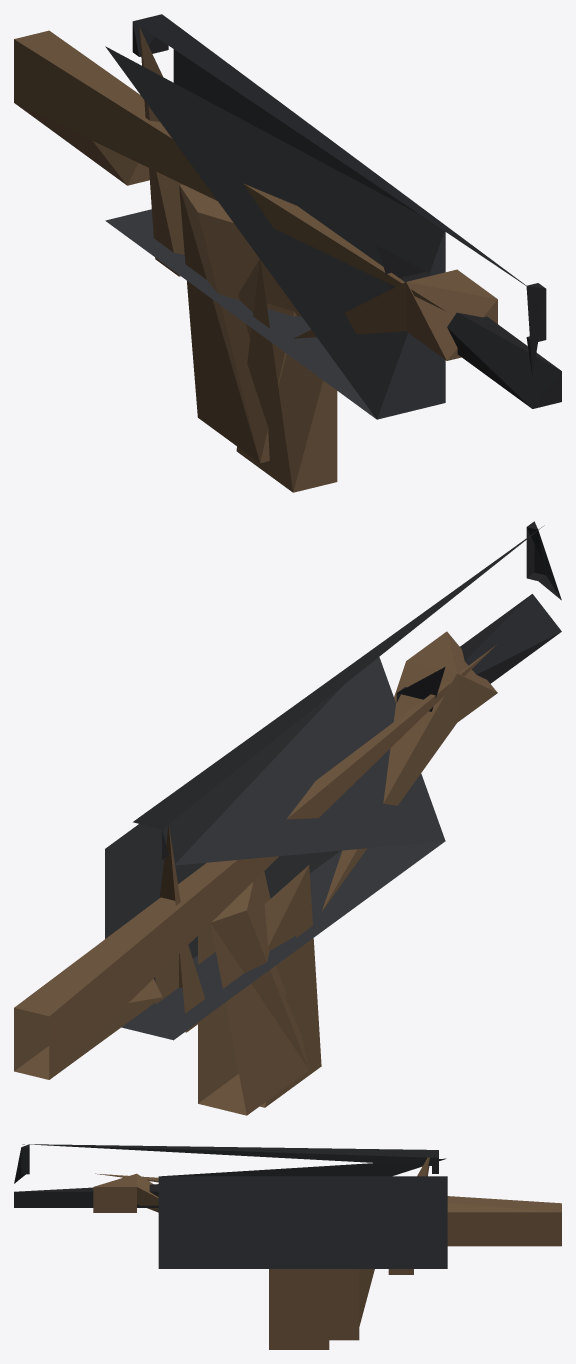
3 renders of one model, top to bottom at view 1: azimuth 30°, elevation 25°; view 2: azimuth 150°, elevation 25°; view 3: azimuth 270°, elevation 25°, orthographic. The views are drawn at different scales.
Size of the model in its own units: 0.07 by 0.36 by 0.91.
